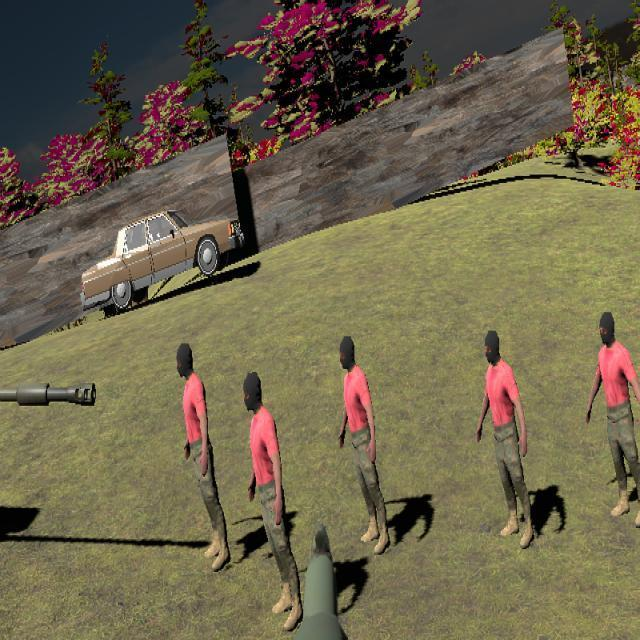Human: (242, 373, 304, 613), (476, 330, 539, 546), (177, 343, 234, 570), (338, 335, 395, 554), (585, 311, 640, 519)
Tank: (0, 350, 98, 555)
car: (79, 209, 248, 314)
